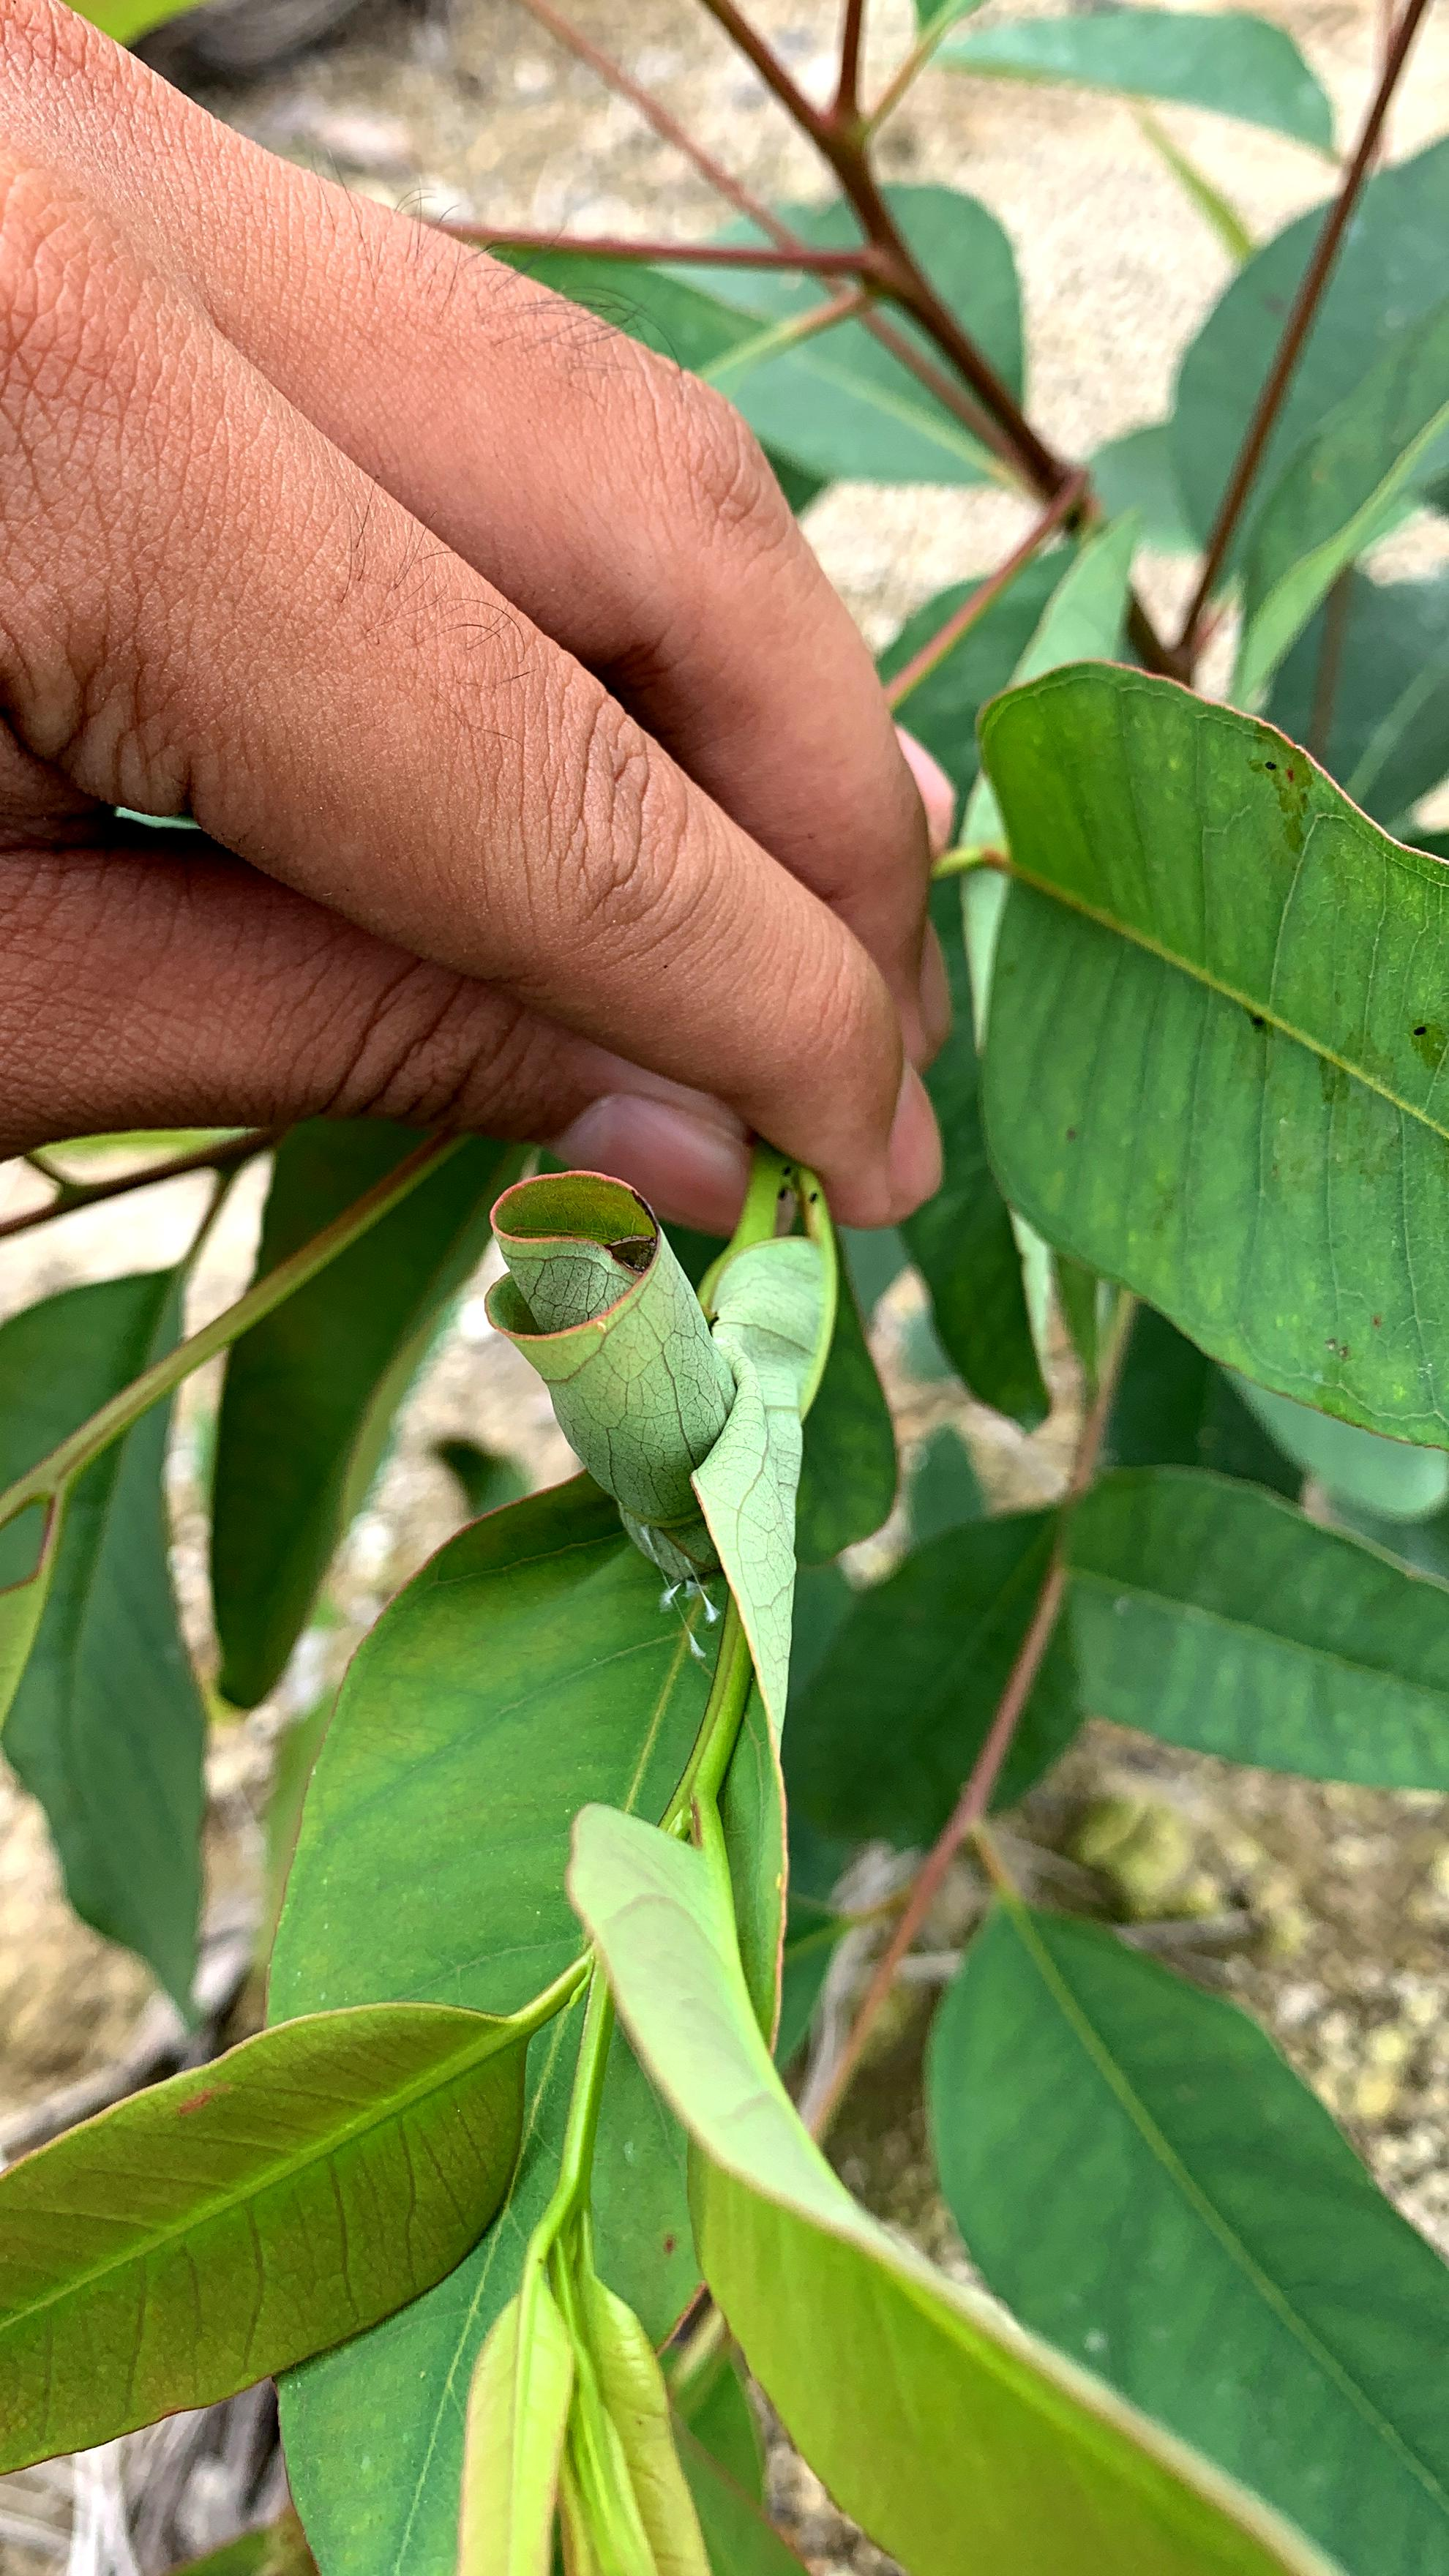Leaf Roller - Leaf: (453, 1026, 909, 1834)
